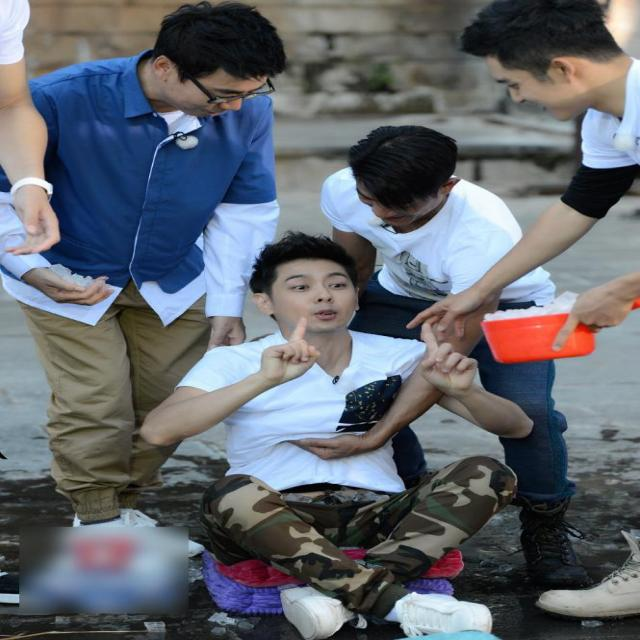obstacle: (198, 245, 505, 640)
